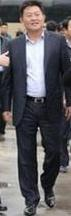boots: (24, 204, 36, 216), (0, 131, 6, 137)
hard-hat: (1, 0, 1, 0)
